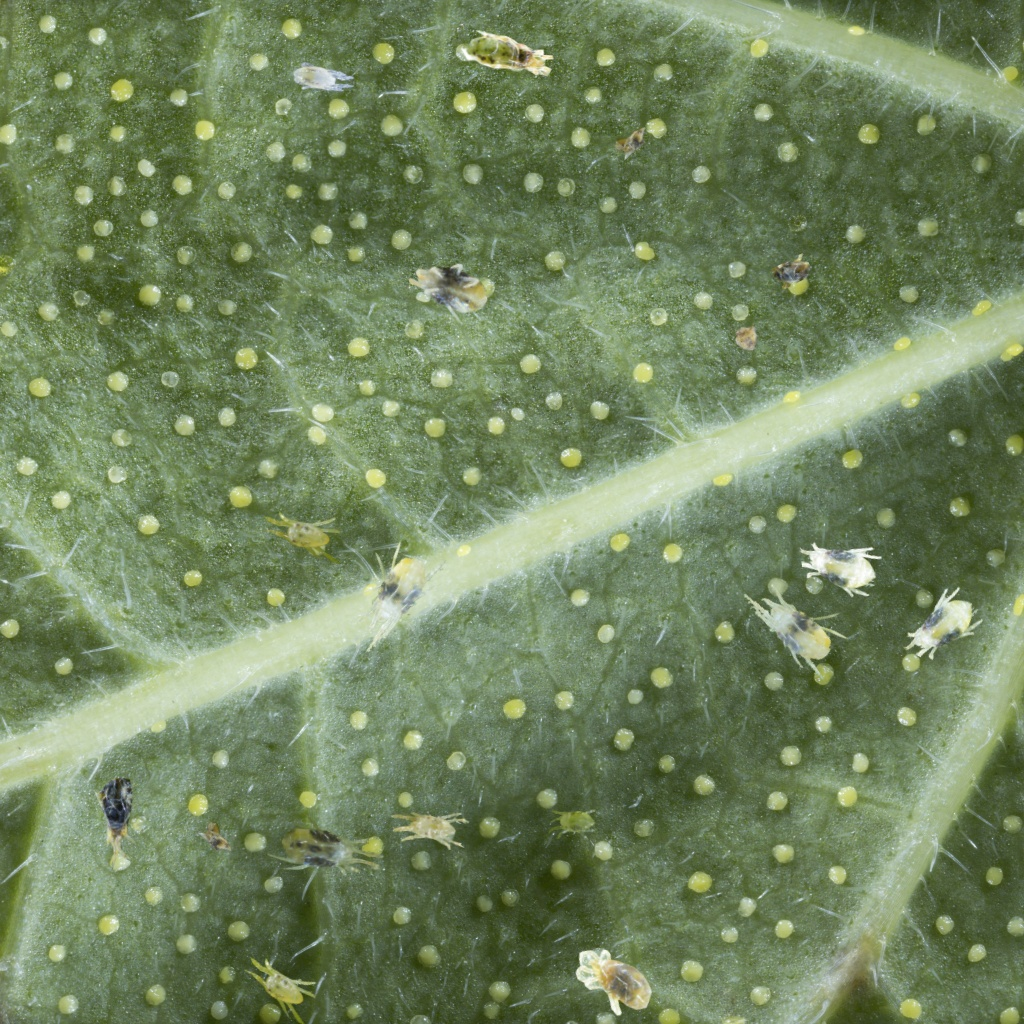Adult_female: (320, 520, 458, 655), (740, 554, 867, 691), (898, 574, 992, 675), (266, 816, 390, 877), (797, 528, 888, 607)
Adult_male: (232, 951, 328, 1024), (260, 510, 348, 565), (390, 808, 472, 854), (290, 59, 357, 100), (548, 805, 598, 842)
Dead_mite: (70, 769, 157, 878), (406, 250, 495, 337), (568, 944, 659, 1023), (460, 29, 554, 77), (611, 120, 655, 161), (197, 818, 238, 861), (770, 252, 815, 291), (731, 321, 762, 353)
